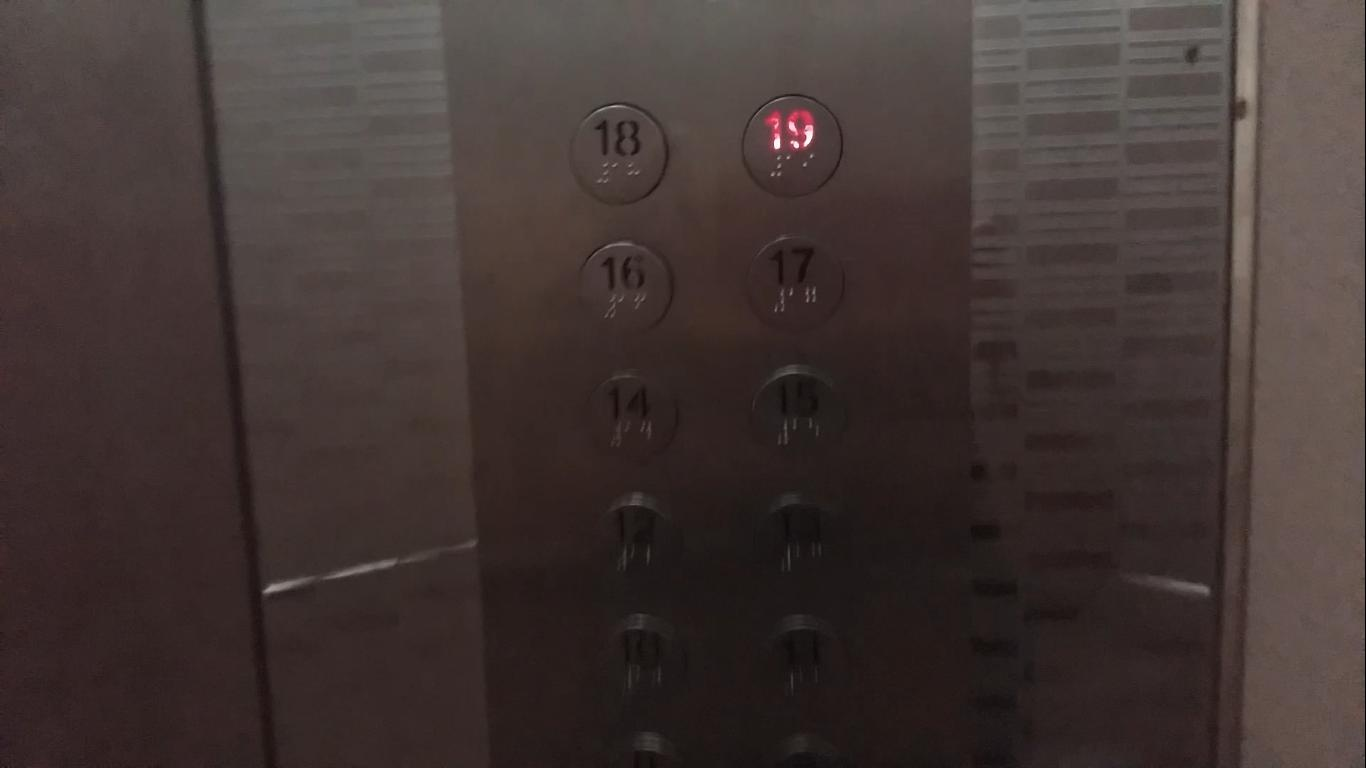12: (585, 493, 685, 593)
14: (581, 370, 681, 470)
15: (743, 366, 843, 466)
16: (573, 235, 675, 340)
17: (744, 231, 846, 336)
18: (566, 98, 674, 208)
19: (738, 91, 846, 201)
blur: (747, 497, 839, 592), (599, 616, 681, 702), (758, 619, 840, 705)
